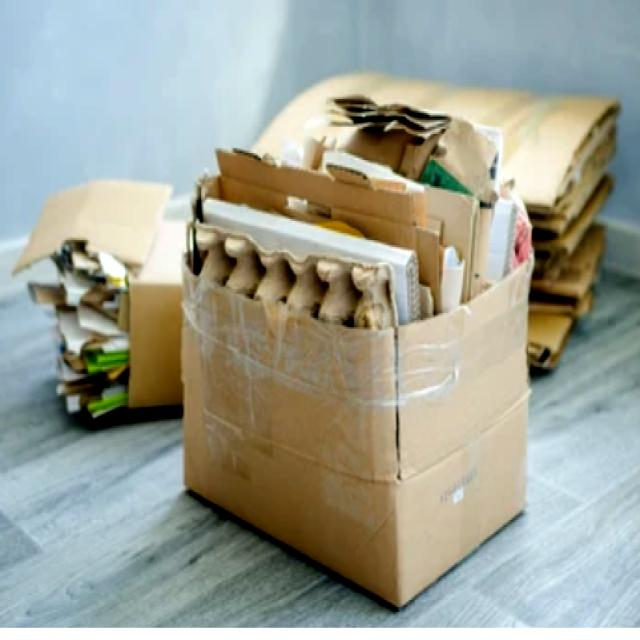Cardboard: (179, 254, 532, 611), (274, 72, 593, 334), (36, 191, 194, 410)
